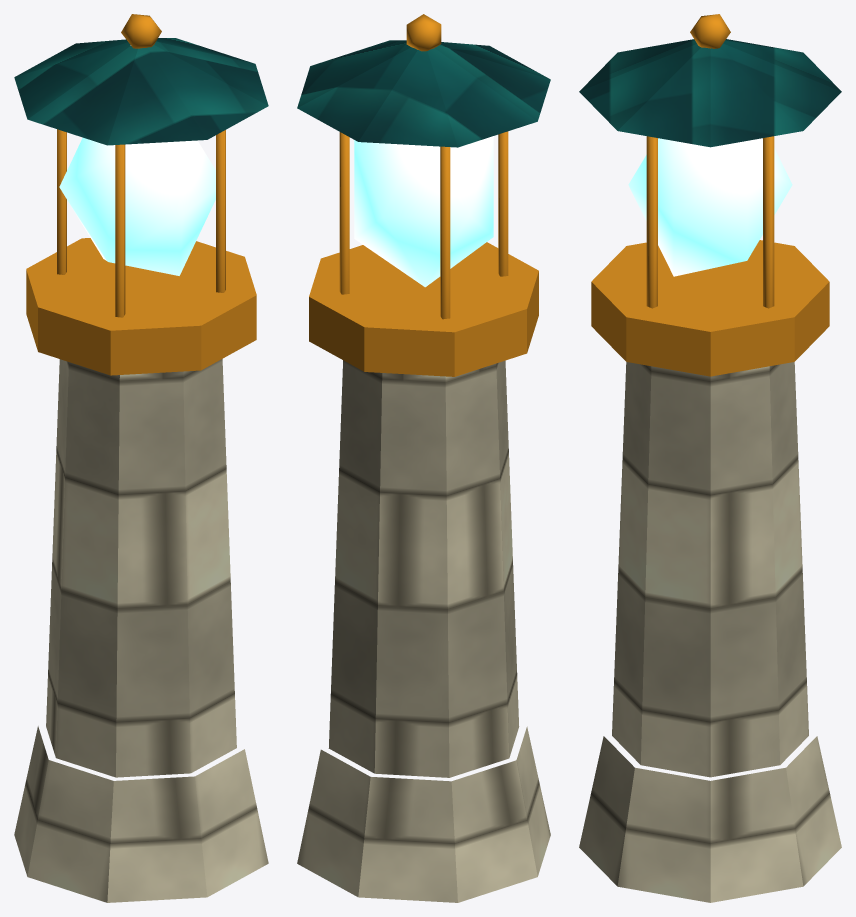
File: pillar_lantern_cloud.glb
3 renders of one model, left to right at view 1: azimuth 30°, elevation 25°; view 2: azimuth 150°, elevation 25°; view 3: azimuth 270°, elevation 25°, orthographic.
Visible parts, largest first — view 1: pillar_lantern_cloud; view 2: pillar_lantern_cloud; view 3: pillar_lantern_cloud.
Part boxes in pixels (box(x1,y1,x2,y2)): pillar_lantern_cloud: box(14, 14, 268, 902); pillar_lantern_cloud: box(297, 14, 550, 902); pillar_lantern_cloud: box(579, 14, 841, 902).
Size of the model in its own units: 0.64 by 2.23 by 0.64.
Materials: 4 (2 with a texture image).
